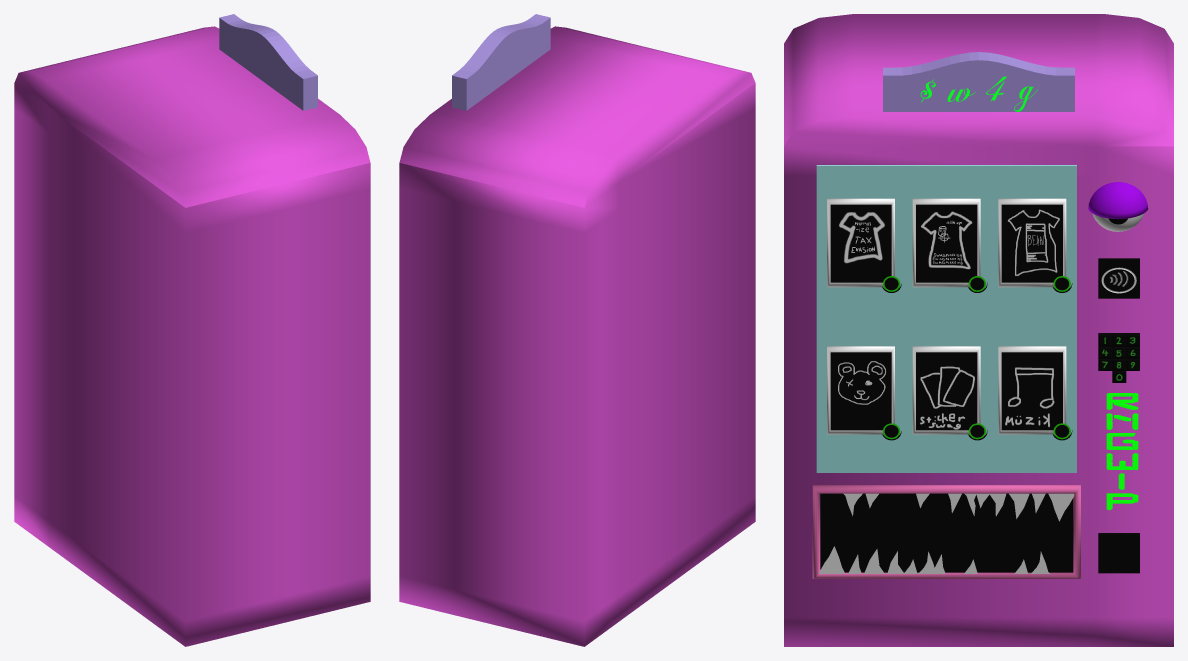
Rendered from VendingMachineRoot_1.glb.
3 views of the same model, side by side, from view 1: azimuth 30°, elevation 25°; view 2: azimuth 150°, elevation 25°; view 3: azimuth 270°, elevation 25° (orthographic). The views are drawn at different scales.
Parts seen in each view (by area): view 1: vending_machine_box.002, swag_sign_block.002; view 2: vending_machine_box.002, swag_sign_block.002; view 3: vending_machine_box.002, window_pane.002, mouthgap.002, swag_sign_block.002, item_display_swagmax.004, item_display_bean.004, item_display_stickers.002, item_display_muzik.004, item_display_tax.002, item_display_plushy.004, gums.002, rngwip_text.004 (+7 smaller).
Part boxes in pixels (box(x1,y1,x2,y2)): vending_machine_box.002: box(14, 26, 370, 646); swag_sign_block.002: box(219, 14, 317, 110); vending_machine_box.002: box(399, 26, 755, 646); swag_sign_block.002: box(452, 14, 550, 110); vending_machine_box.002: box(784, 14, 1173, 646); window_pane.002: box(816, 165, 1076, 472); mouthgap.002: box(820, 493, 1073, 572); swag_sign_block.002: box(883, 52, 1074, 111); item_display_swagmax.004: box(912, 198, 980, 287); item_display_bean.004: box(998, 198, 1066, 287); item_display_stickers.002: box(912, 346, 980, 434); item_display_muzik.004: box(998, 346, 1066, 434); item_display_tax.002: box(827, 198, 894, 287); item_display_plushy.004: box(827, 346, 894, 434); gums.002: box(812, 485, 1080, 578); rngwip_text.004: box(1106, 393, 1138, 509).
Size of the model in its own units: 4.11 by 9.88 by 6.
21 materials, 8 textured.
